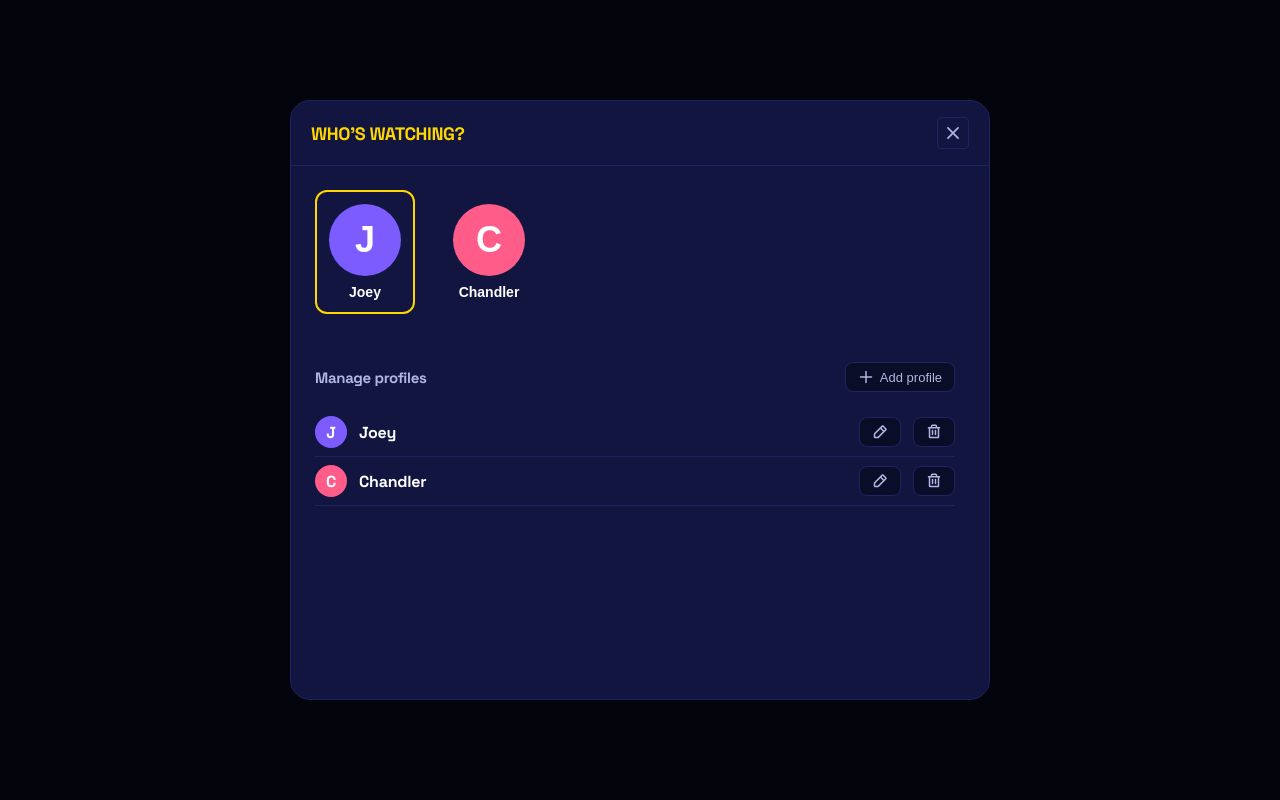
Test: ProfilePage › shows a visible error when deleting a profile fails, outside the edit form
Click the button named "delete chandler": point(934, 481) [913,466,955,496]
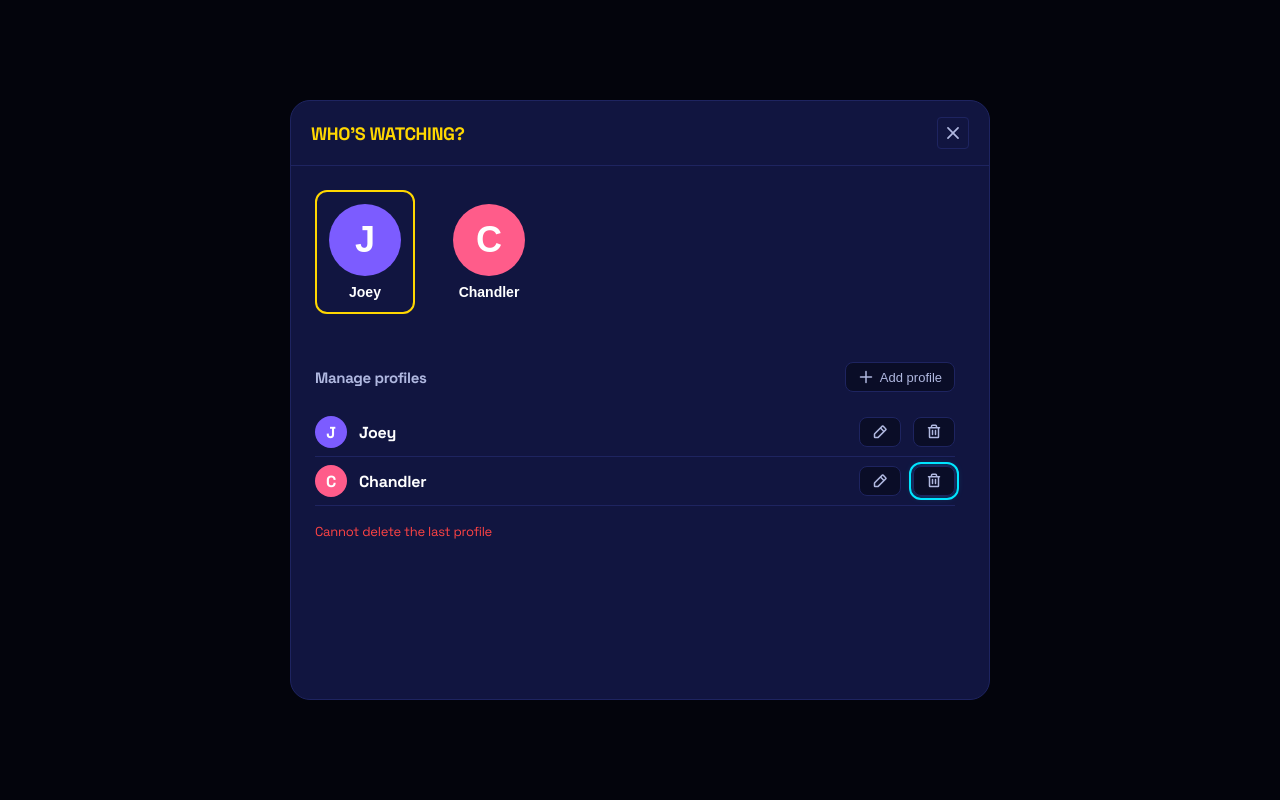
Expected: the text "Cannot delete the last profile" is shown, [315,523,492,540]
